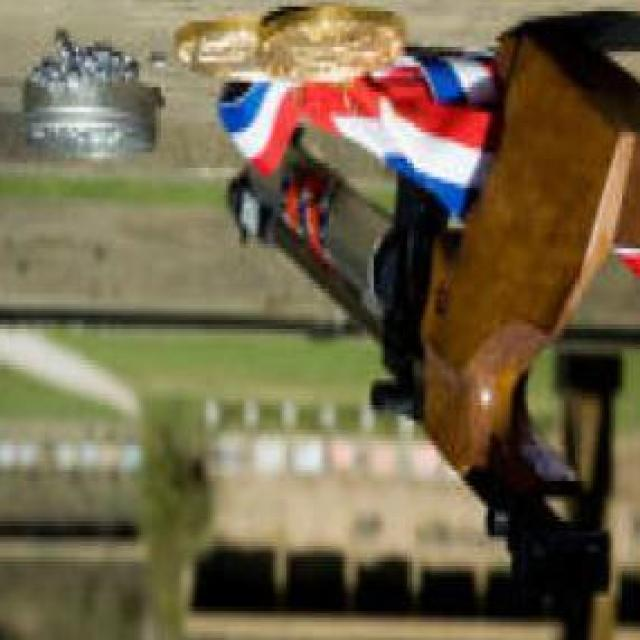pistol: (224, 26, 633, 602)
